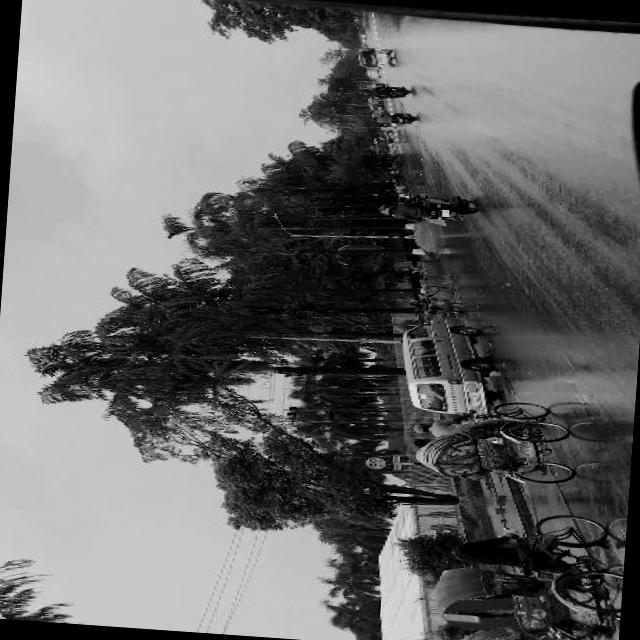car: (364, 70, 381, 80)
motorcycle: (427, 504, 625, 640), (411, 413, 578, 487), (373, 188, 480, 226), (446, 621, 612, 640), (354, 46, 398, 70), (362, 82, 413, 100), (368, 110, 417, 128)
truck: (396, 312, 500, 416)
